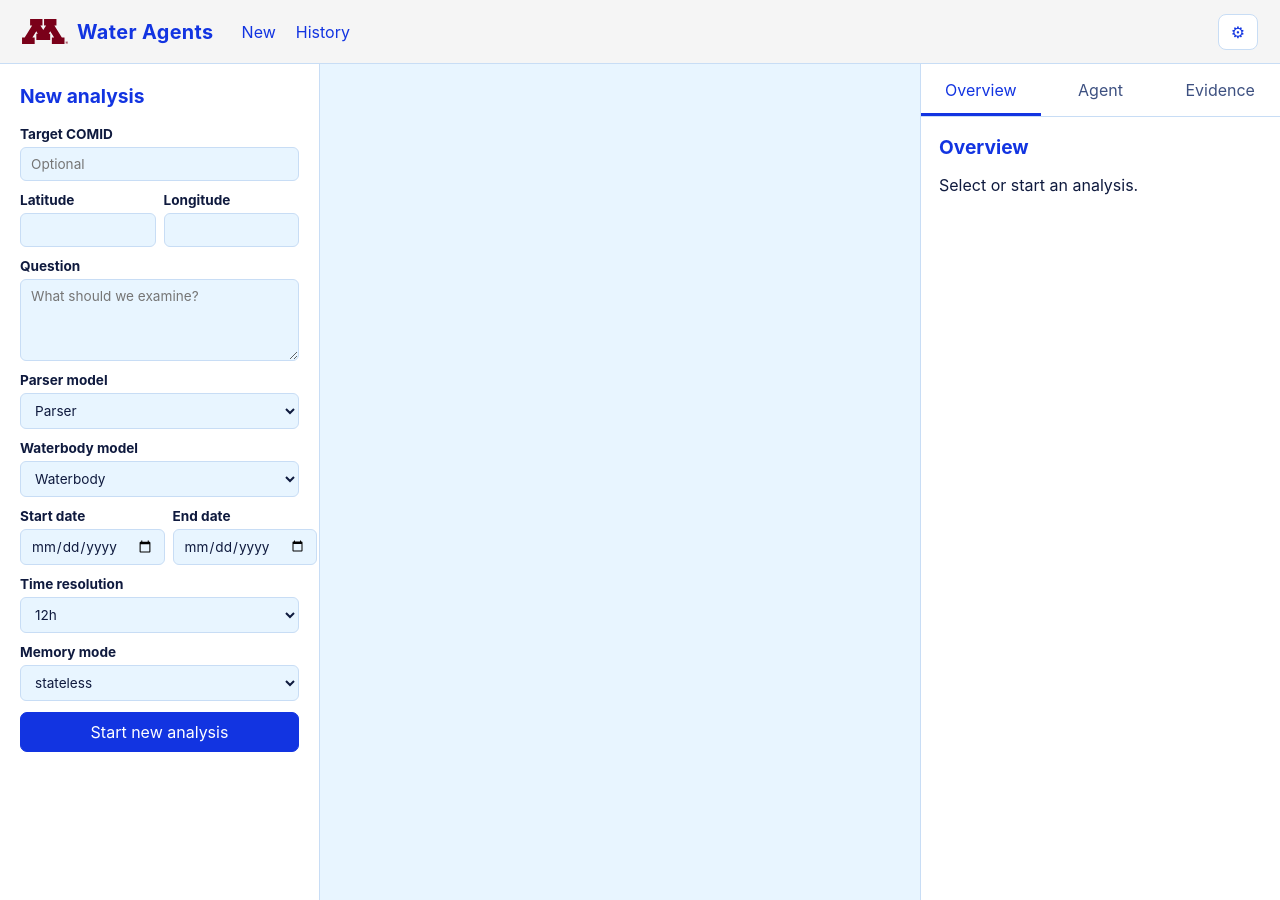
keeps newer shared settings when a closed drawer receives an older save response
expect the text box labelled "Question" is shown: met, box [20, 279, 299, 361]
Click the button named "Settings".
click(1238, 32)  # box [1218, 14, 1258, 50]
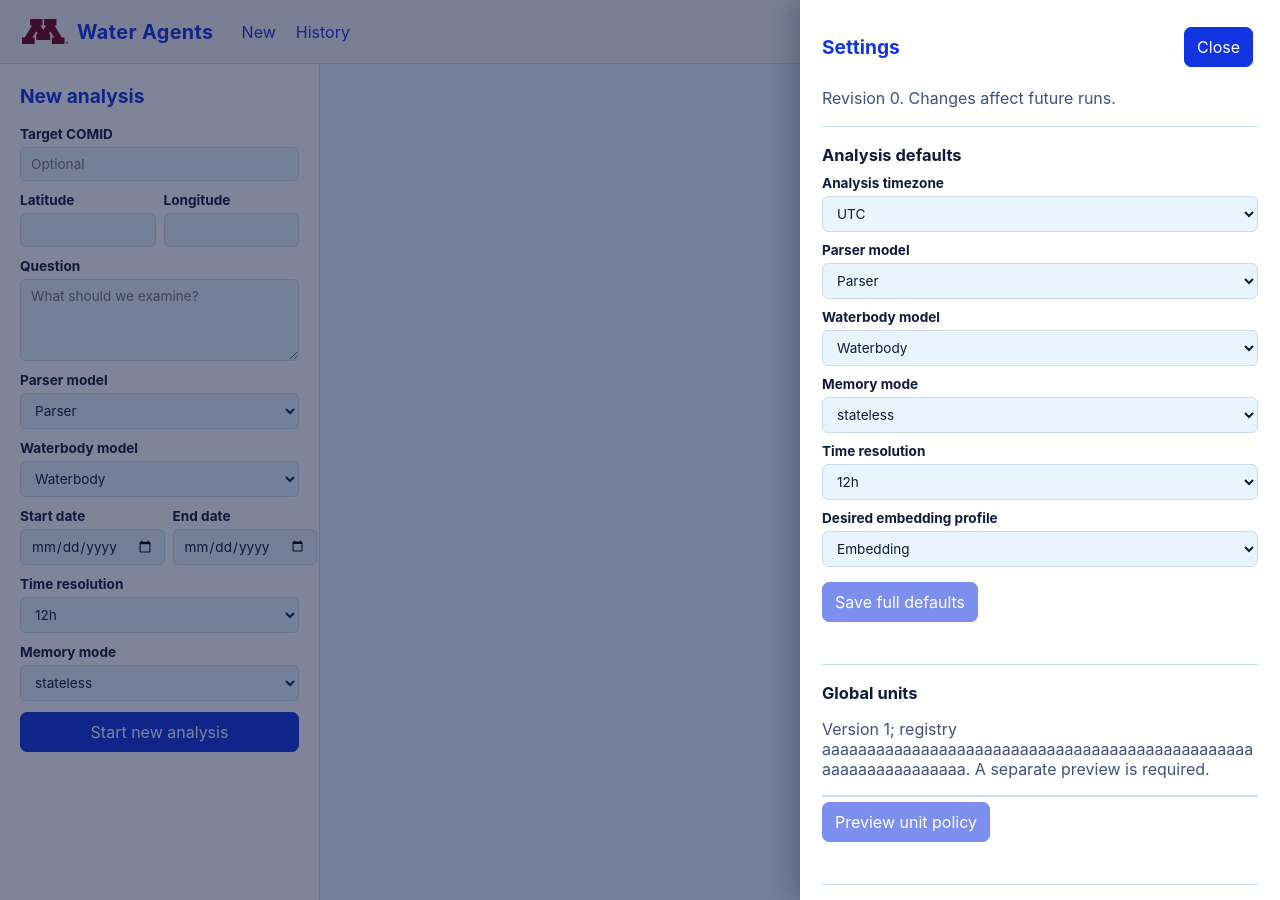
Select "America/Denver" in the dropdown labelled "Analysis timezone" at [1040, 214], box [822, 196, 1258, 232]
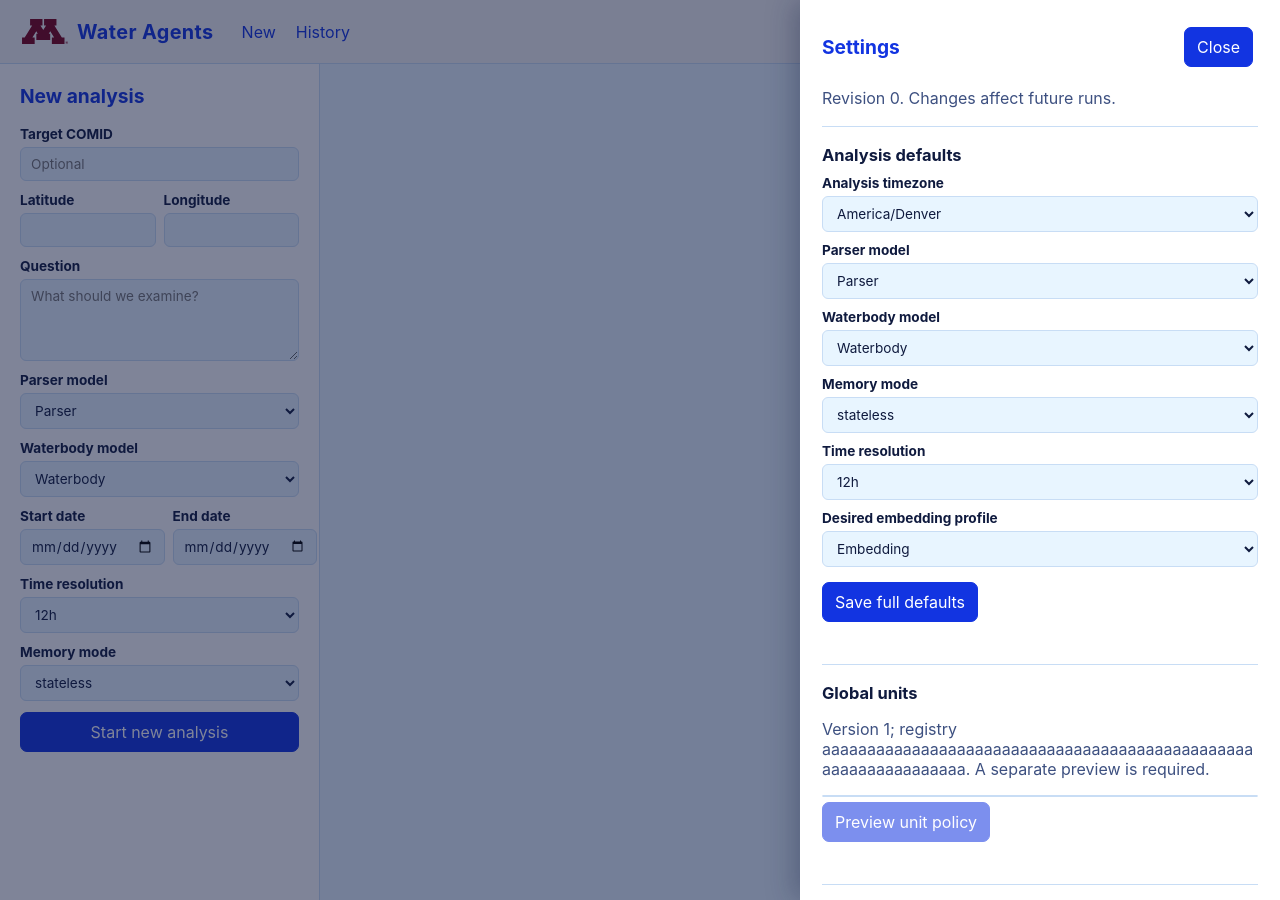
Click the button "Save full defaults".
click(900, 602)  # box [822, 582, 978, 622]
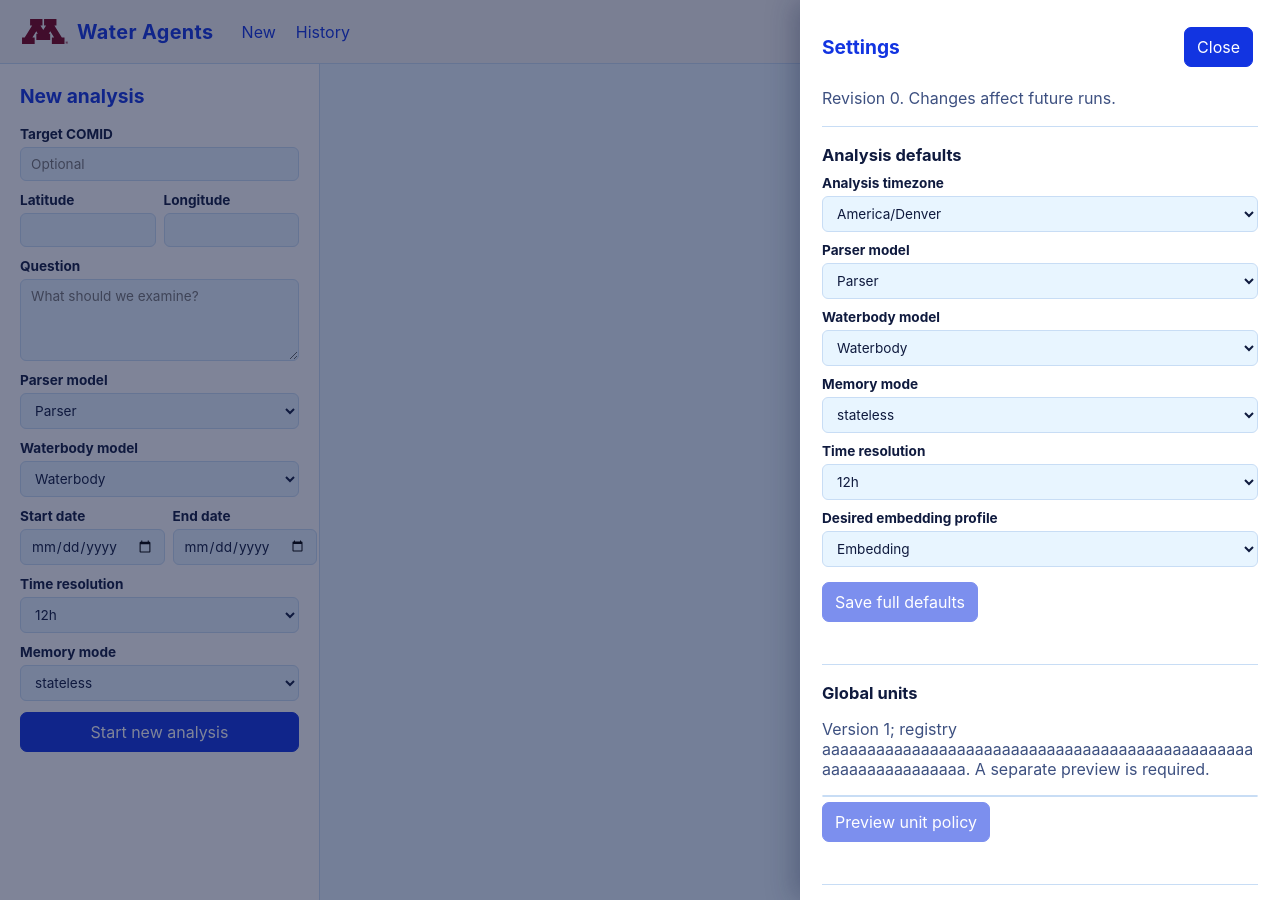
Click the button "Close".
click(1219, 47)  # box [1184, 27, 1253, 67]
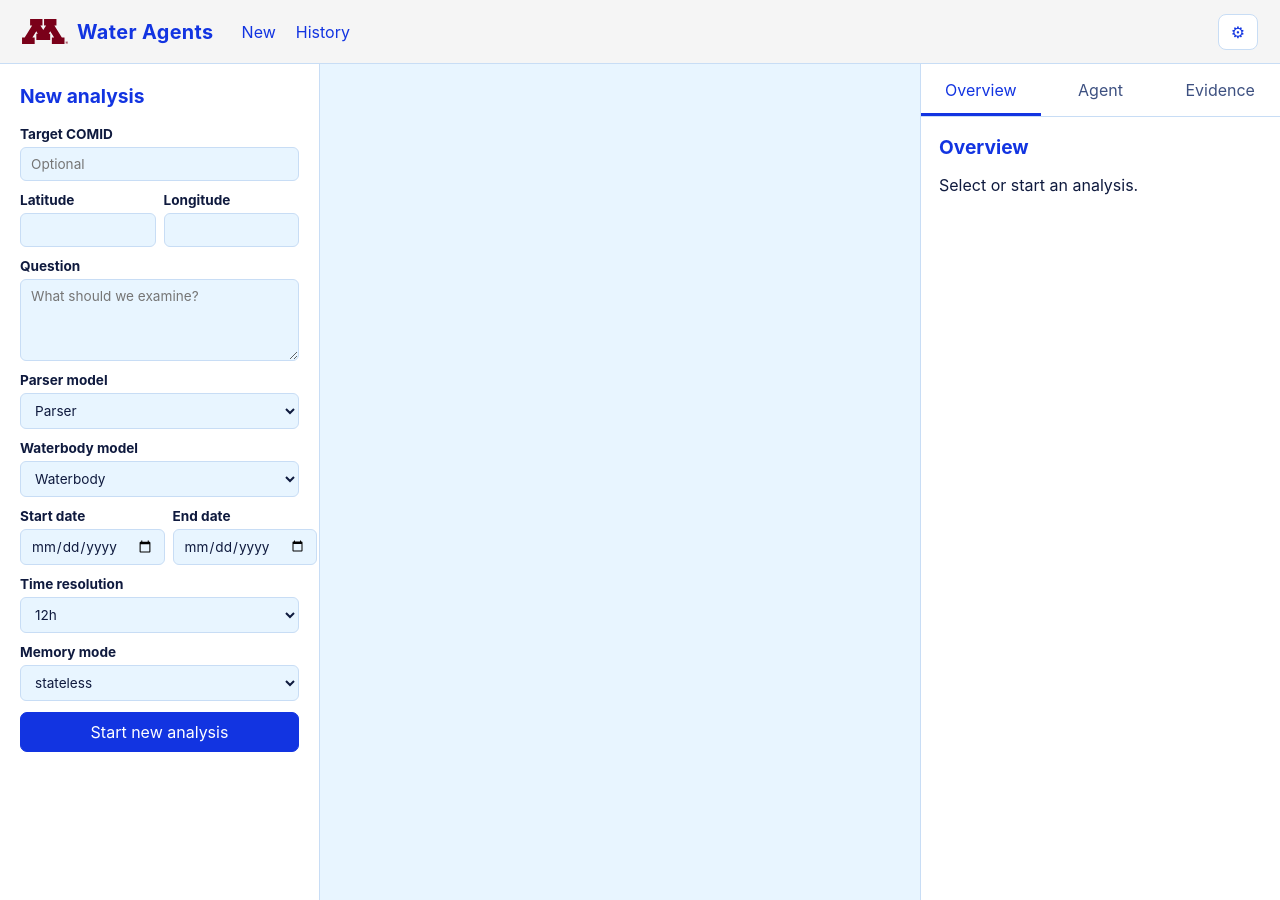
Click the button named "Settings".
click(1238, 32)  # box [1218, 14, 1258, 50]
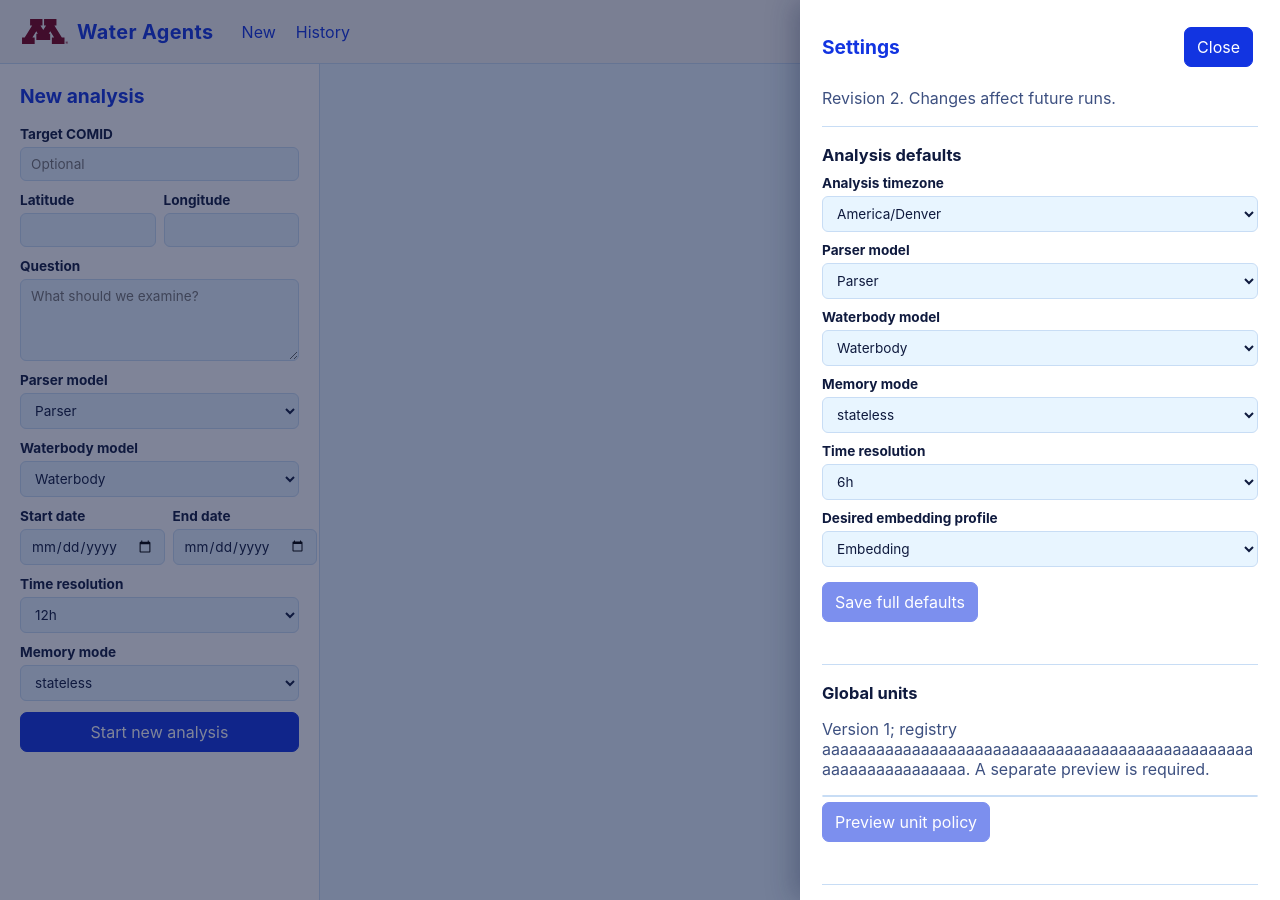
expect the text "Revision 2. Changes affect future runs." is shown: met, box [822, 88, 1116, 108]
Click the button "Close".
click(1219, 47)  # box [1184, 27, 1253, 67]
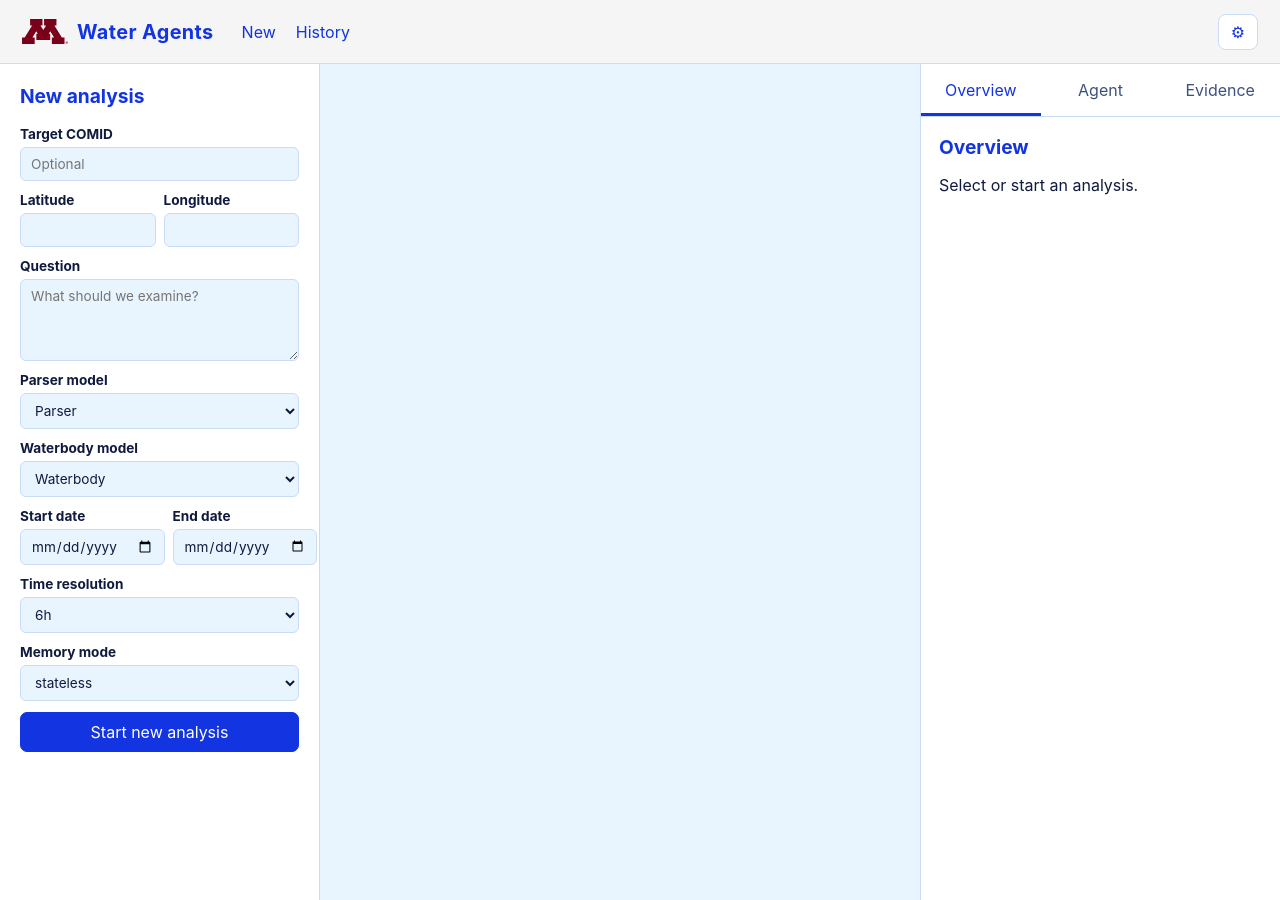
expect the dropdown labelled "Time resolution" shows "6h": met, box [20, 597, 299, 633]
